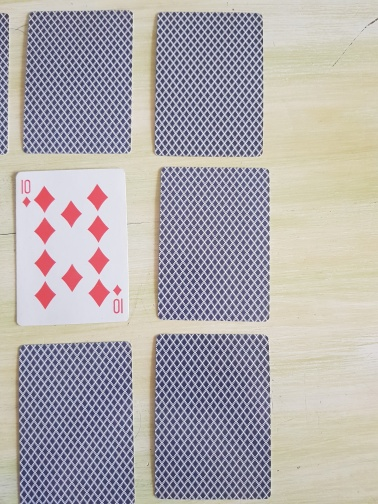ten: (15, 169, 131, 326)
